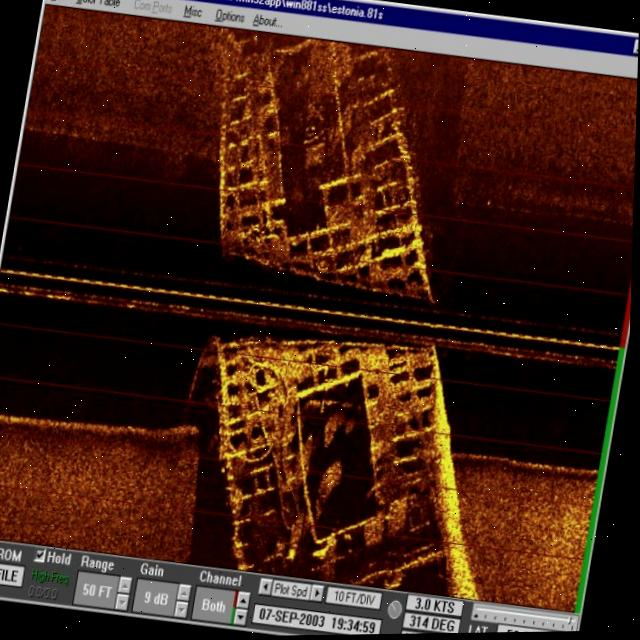shipwreck: (140, 35, 539, 598)
